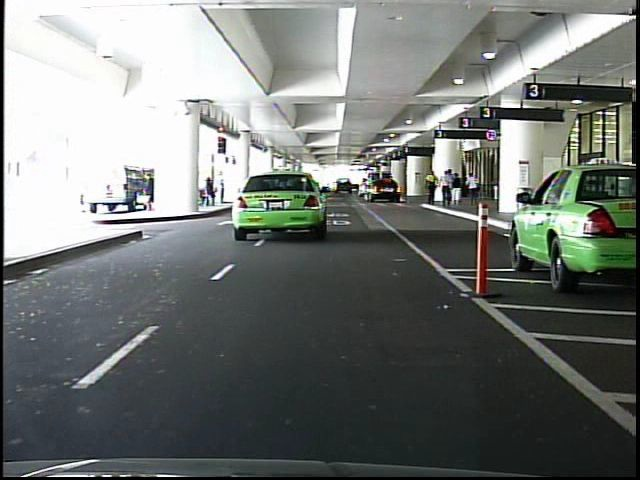person: (465, 169, 484, 210), (439, 166, 455, 211), (424, 166, 440, 208), (452, 172, 464, 212)
